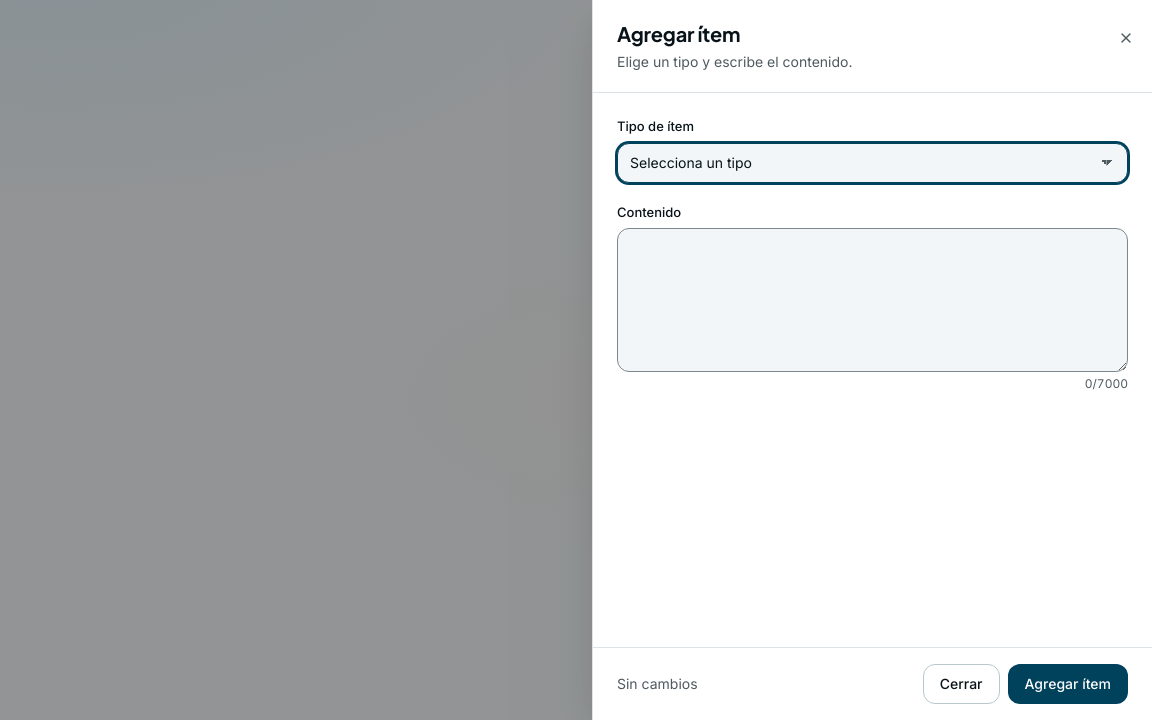
Test: AgregarItemForm › un envío inválido muestra el resumen de errores y lleva el foco al primer campo con error
Click the button "Agregar ítem".
click(1068, 684)  # box top-left (1008, 664), bottom-right (1128, 704)
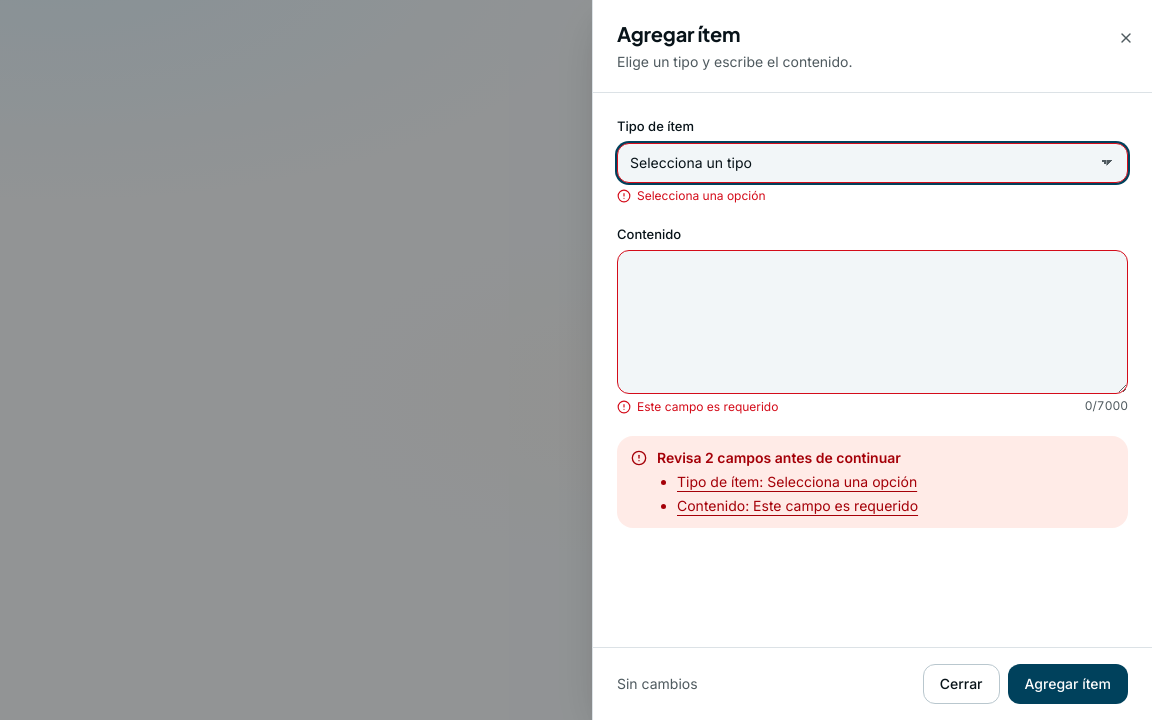
Expected: the text "Revisa 2 campos antes de continuar" is shown, top-left (657, 448), bottom-right (918, 468)
